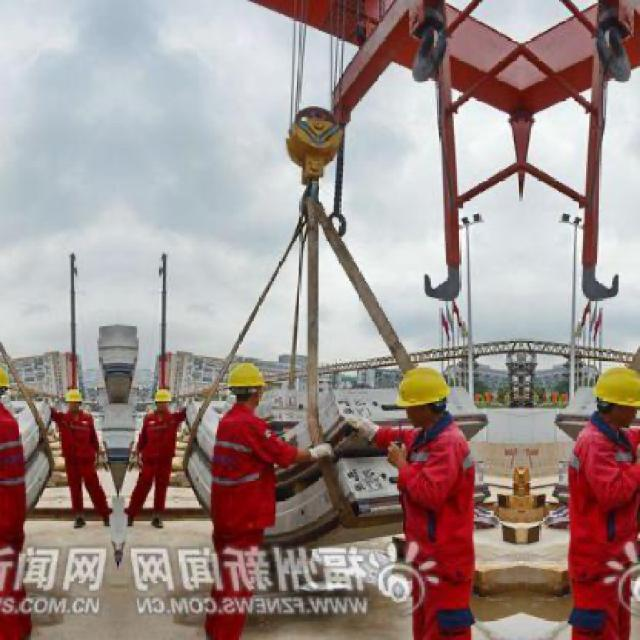helmet: (392, 364, 458, 428), (586, 363, 640, 428), (224, 358, 274, 411), (151, 386, 177, 416), (60, 386, 86, 416), (1, 358, 14, 412)
